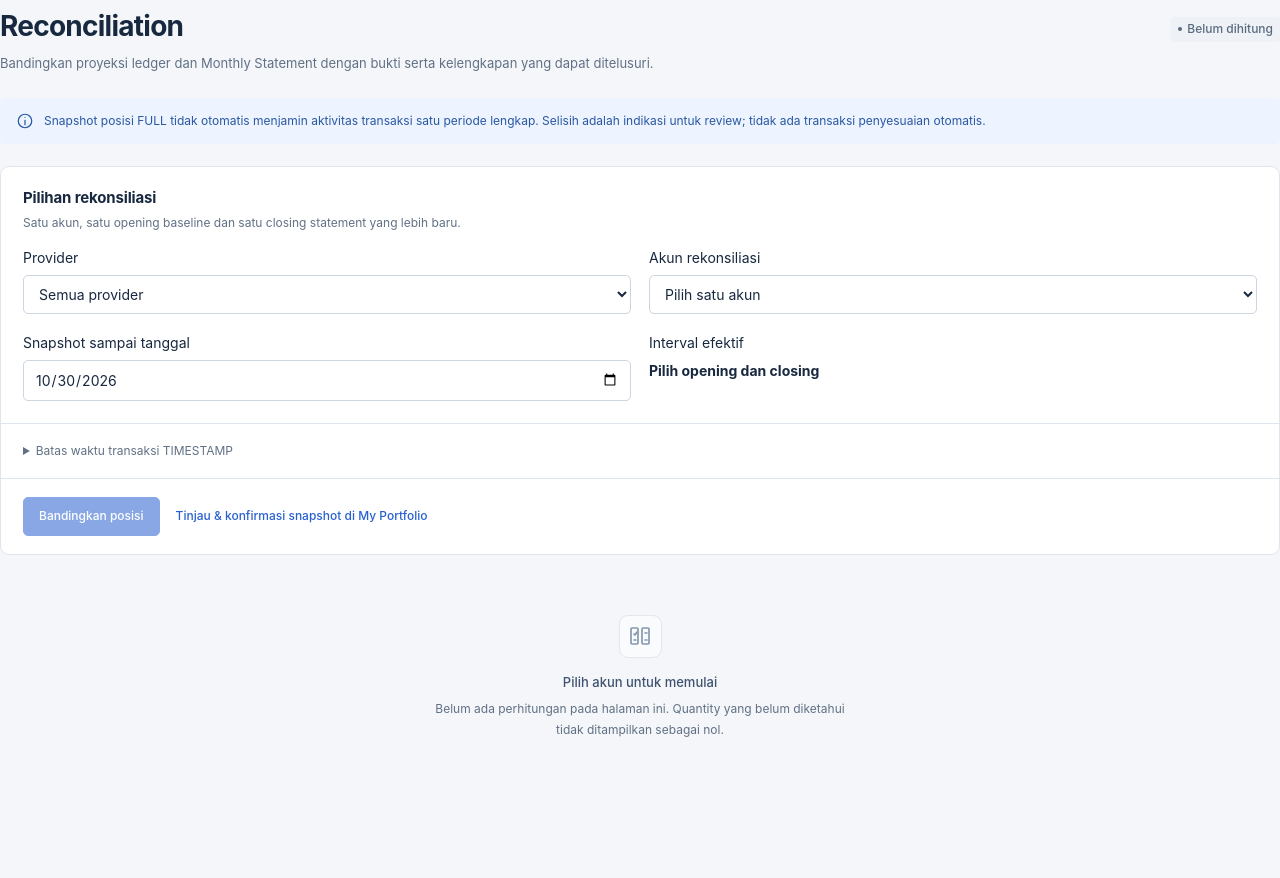
Test: keeps numerical equality distinct from verified MATCHED when coverage is unknown
This screenshot has width=1280, height=878.
Select "DEMO Stocks" in the dropdown labelled "Akun rekonsiliasi". click: (953, 294)
box: x1=649 y1=275 x2=1257 y2=314
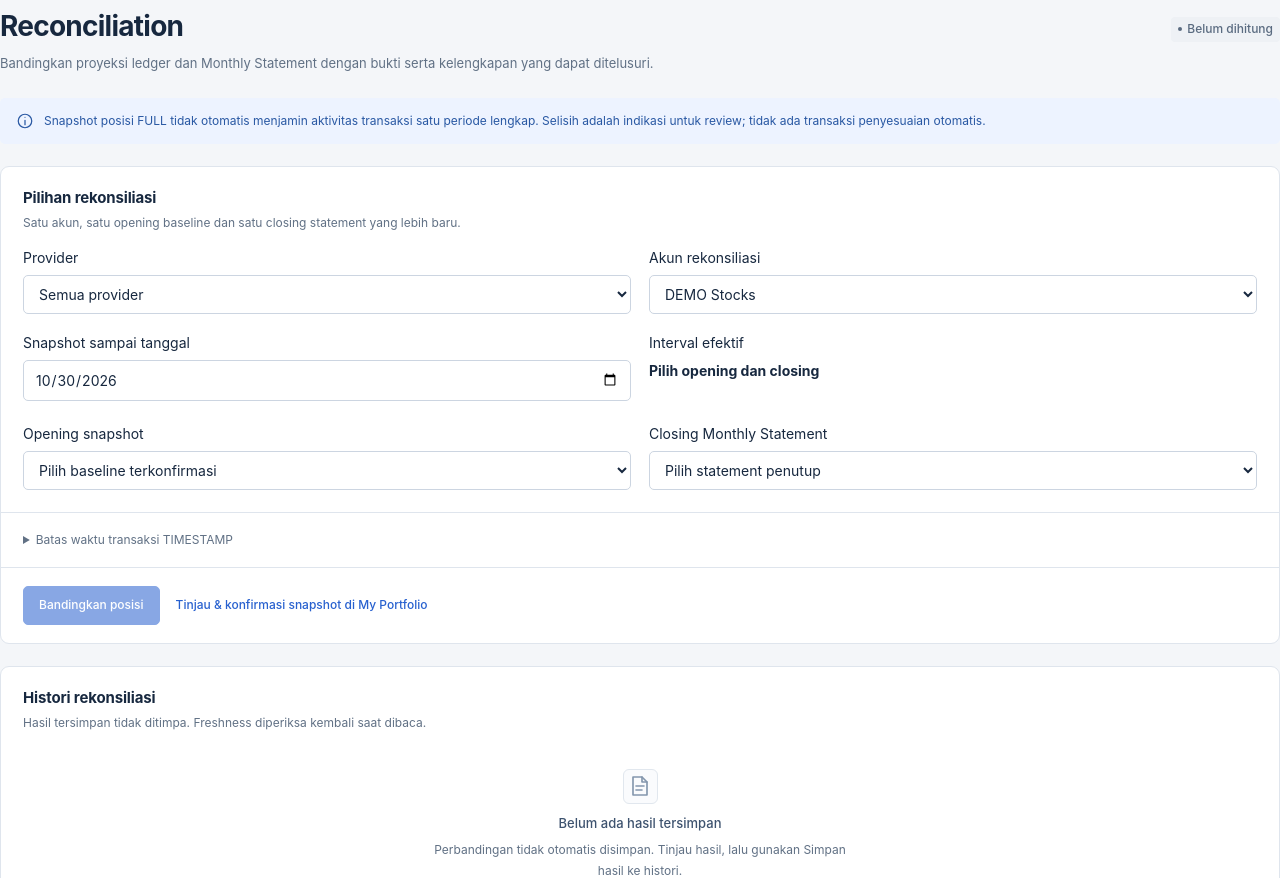
Result: the dropdown labelled "Opening snapshot" is shown
Select "#11 · 31 Jan 2020 · FULL · CONFIRMED" in the dropdown labelled "Opening snapshot". click: (327, 470)
box: x1=23 y1=451 x2=631 y2=490
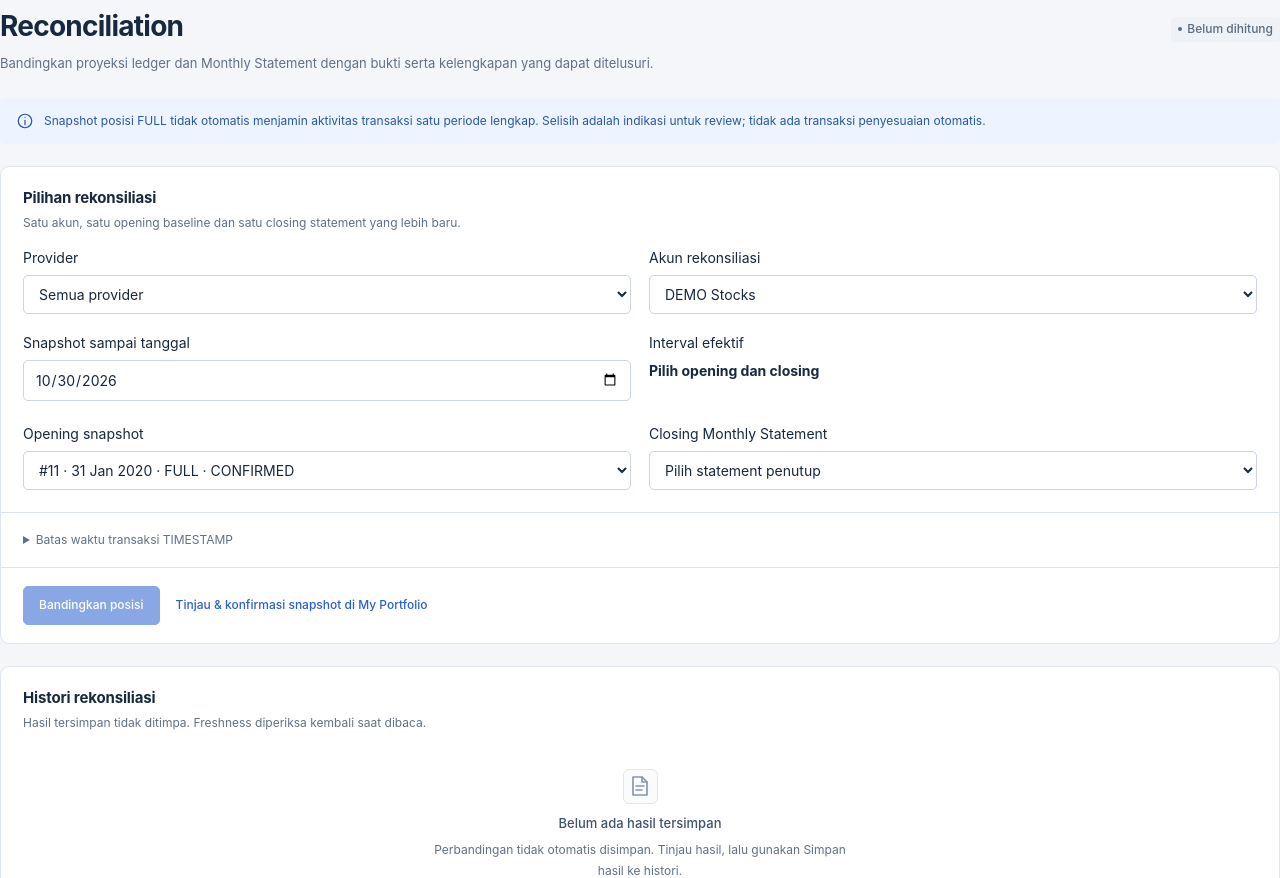
Select "#12 · 29 Feb 2020 · FULL · CONFIRMED" in the dropdown labelled "Closing Monthly Statement". click: (953, 470)
box: x1=649 y1=451 x2=1257 y2=490
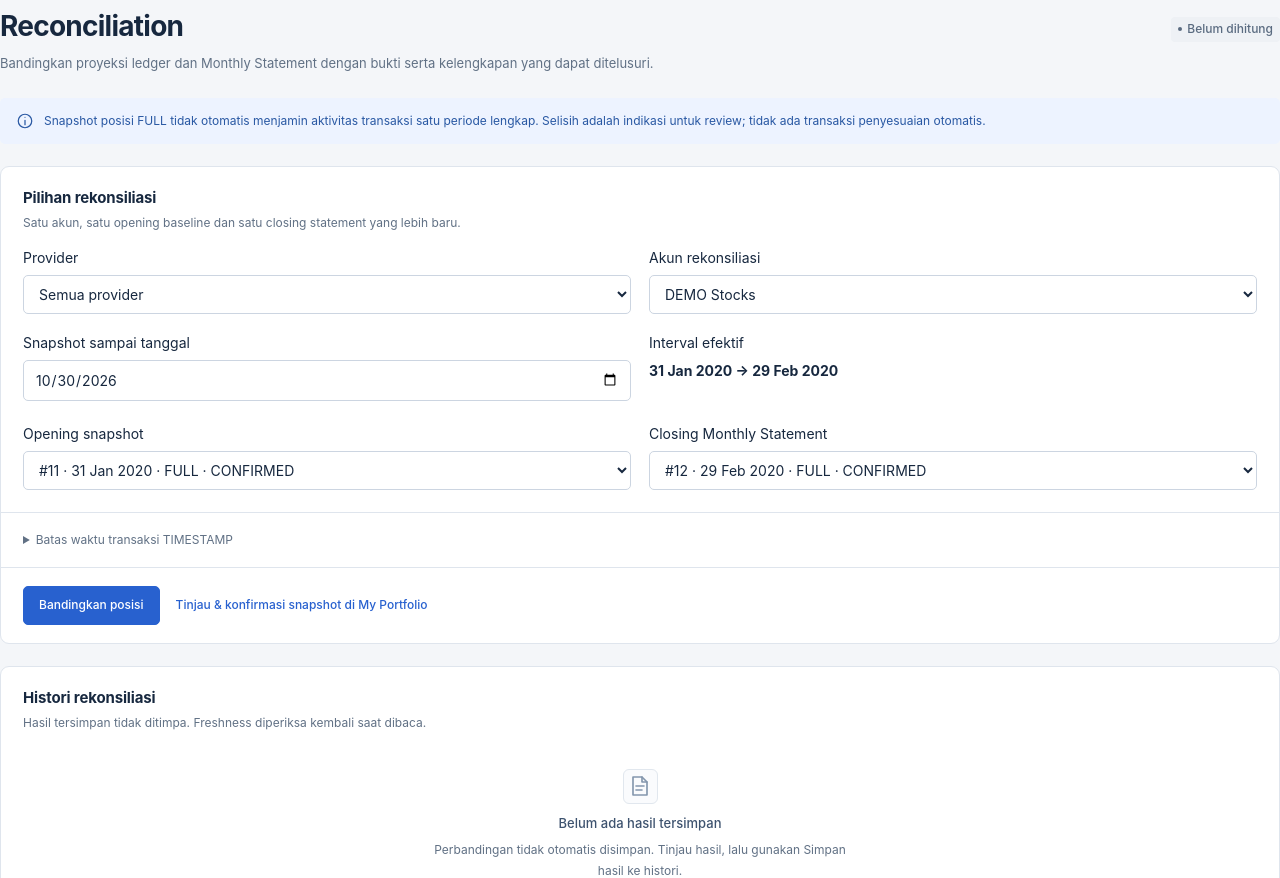
Click the button "Bandingkan posisi". click: (91, 605)
box: x1=23 y1=586 x2=160 y2=625
(page scrolled)
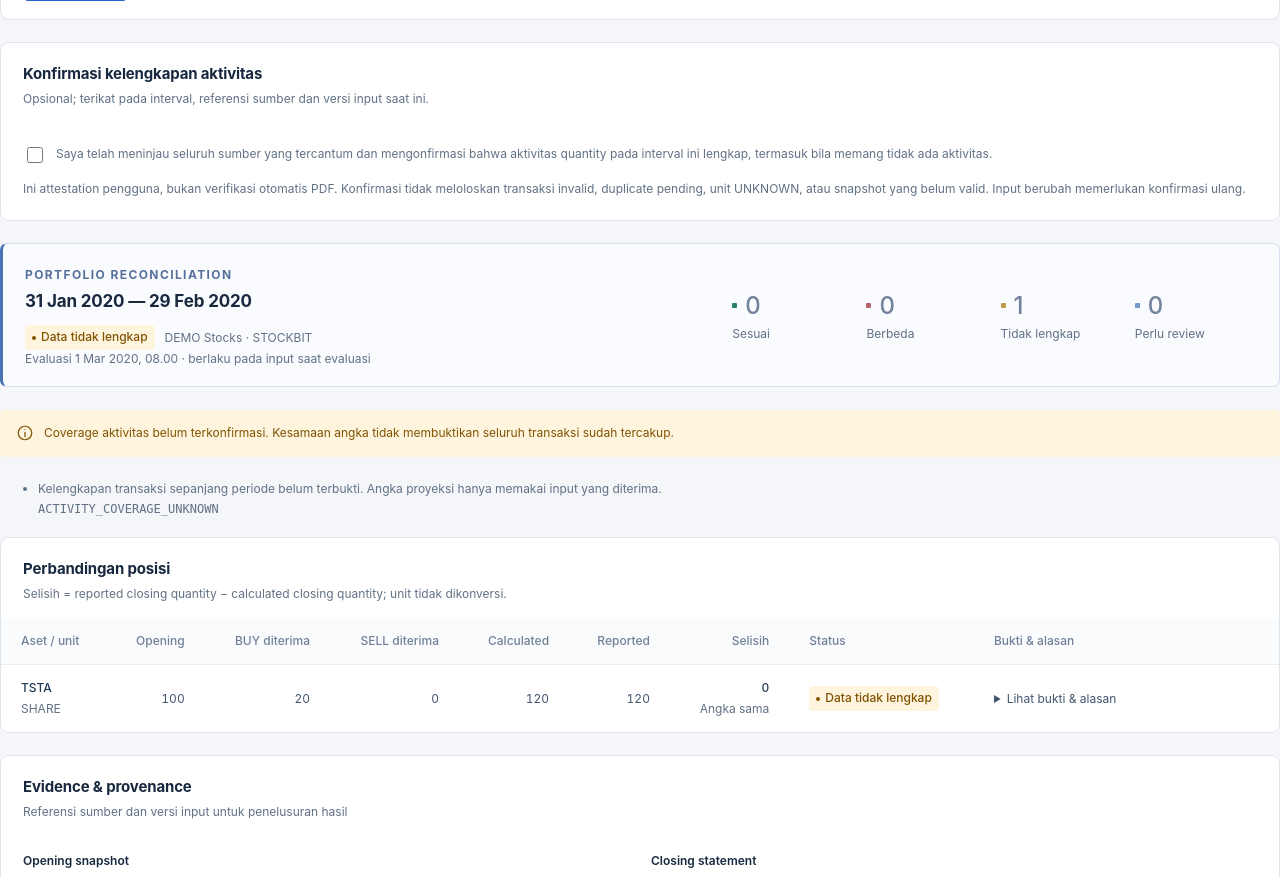
Result: the element named "Tabel rekonsiliasi" is shown at x1=1 y1=618 x2=1279 y2=732
Result: the text "Angka sama" is shown at x1=690 y1=700 x2=769 y2=718
Result: the text "Coverage aktivitas belum terkonfirmasi" is shown at x1=44 y1=425 x2=674 y2=440
